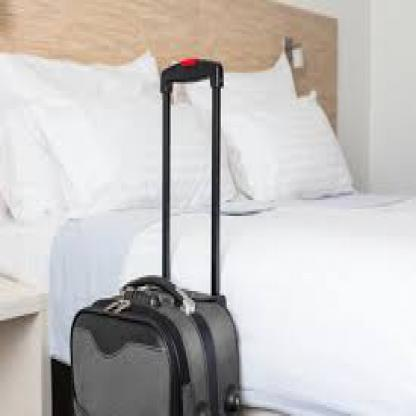maleta: (65, 268, 250, 414)
